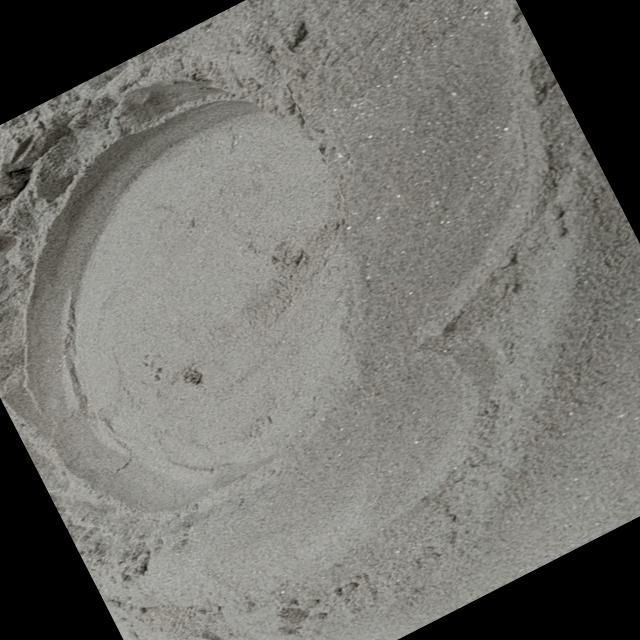C40: (3, 90, 346, 512)
